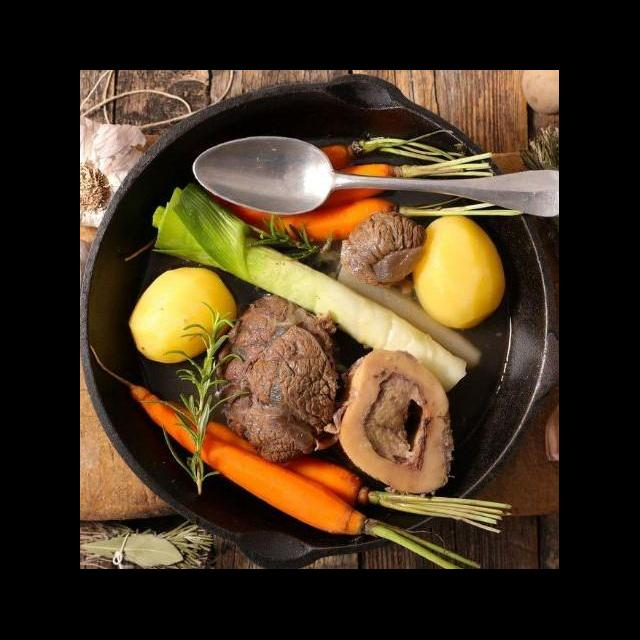thit bo: (208, 290, 366, 470), (332, 208, 432, 294)
trung: (125, 262, 244, 368), (406, 212, 508, 334)
